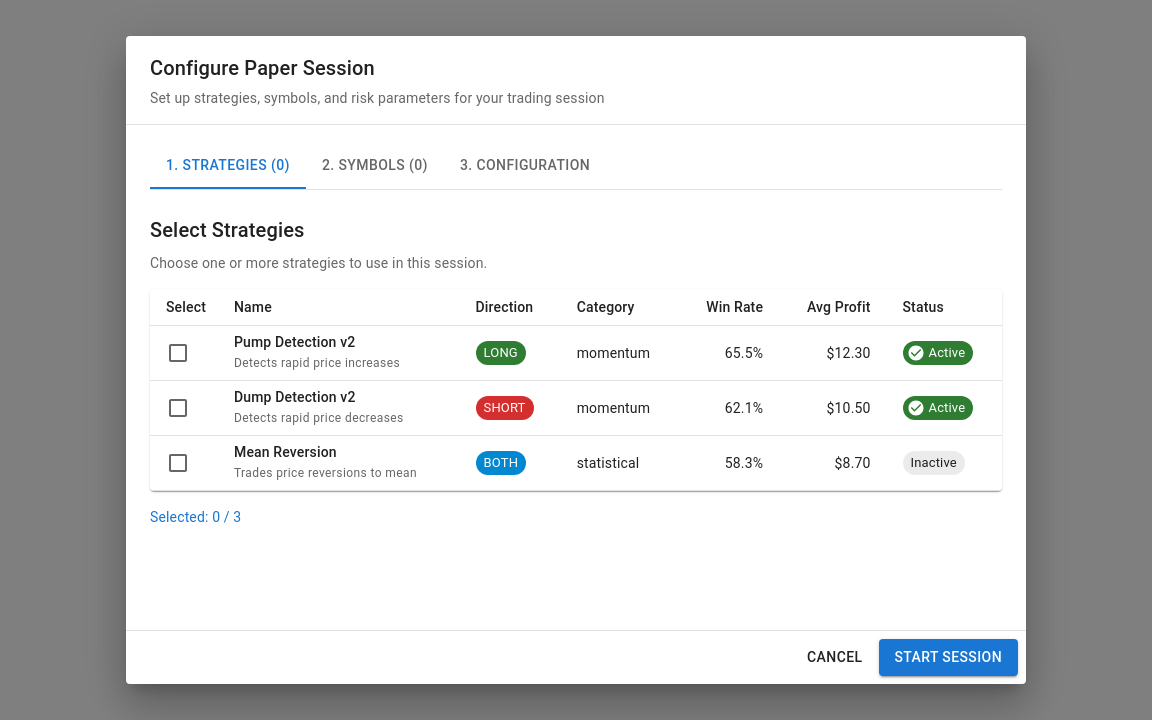
Test case: SessionConfigDialog › Strategy Selection › allows deselecting a strategy
Expected: the text "Pump Detection v2" is shown, [234,334,355,350]
Click the checkbox next to "Pump Detection v2".
click(178, 353)  # box [166,341,190,365]
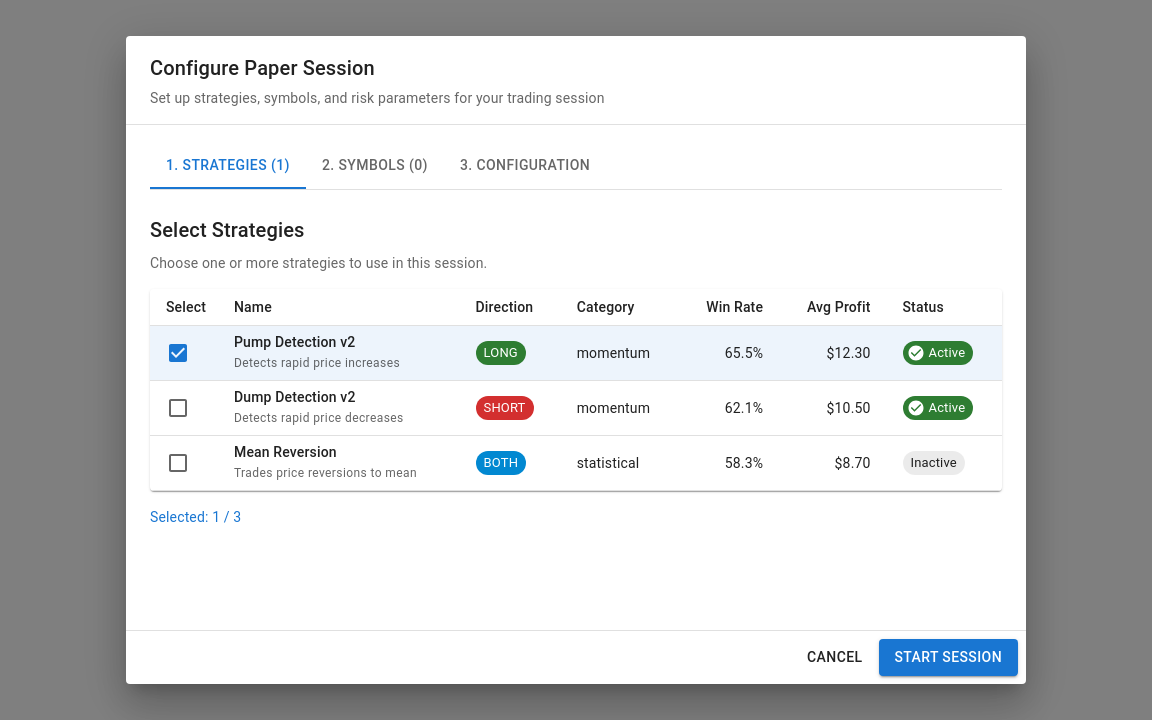
Expected: the tab "1. Strategies (1)" is shown, [150,141,306,189]
Click the checkbox next to "Pump Detection v2".
click(178, 353)  # box [166,341,190,365]
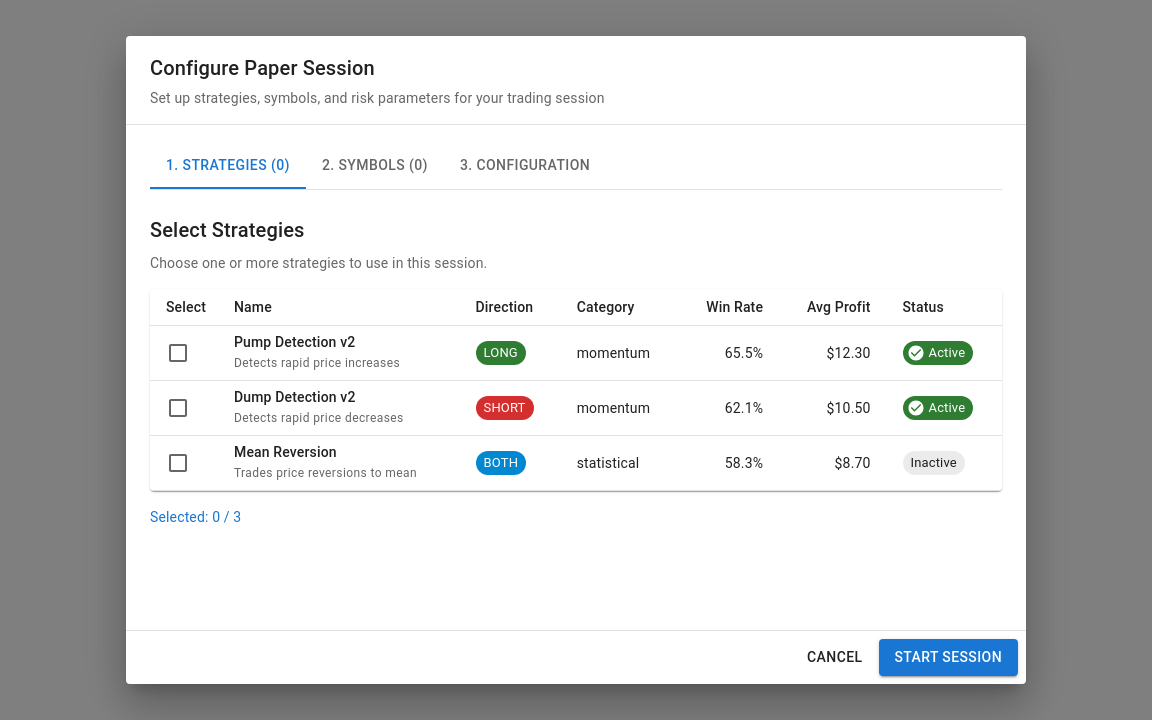
Expected: the tab "1. Strategies (0)" is shown, [150,141,306,189]
